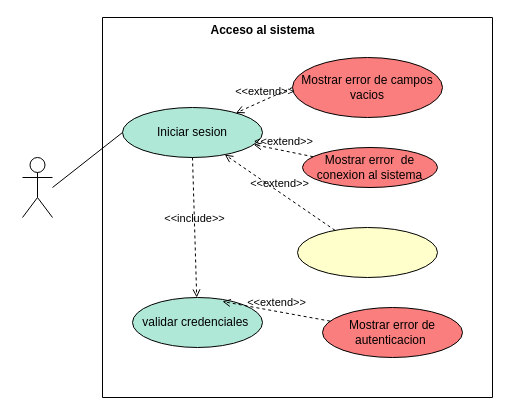
Image size: 510x415. Some labels were removed from this diagram. The centre of each missing label's shape, as x and y in pixels:
Recuperar contraseña: the point at 367,252
Usuario: the point at 37,187
